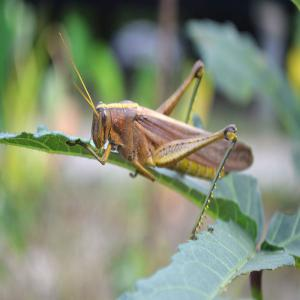locust: (68, 63, 249, 232)
